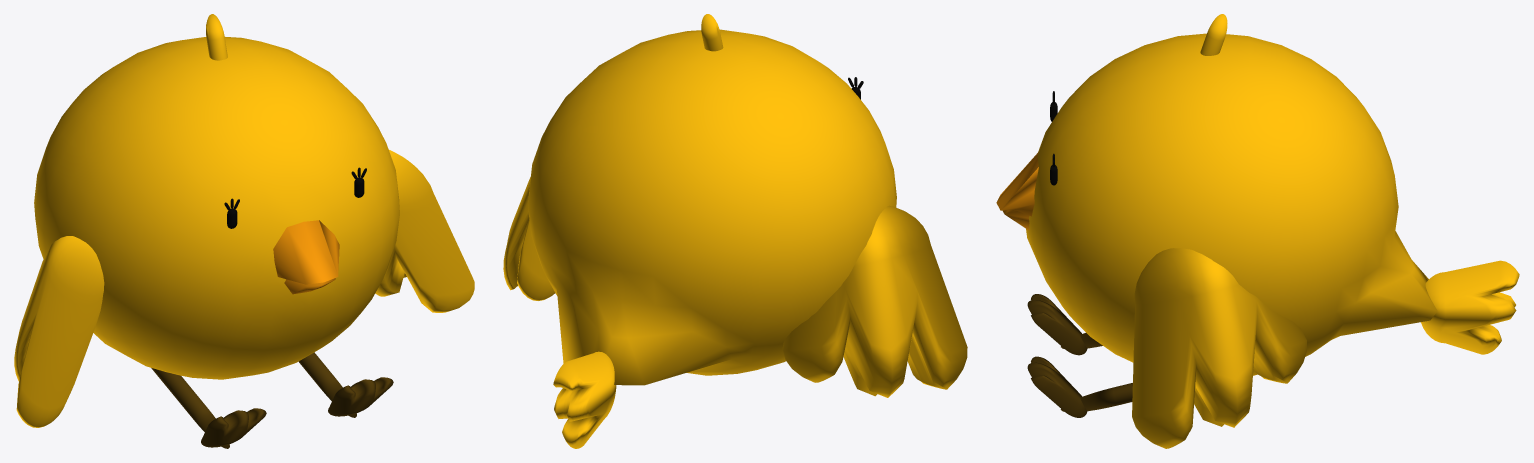
File: shisocchi.obj
The picture shows the model from 3 angles, left to right: view 1: azimuth 30°, elevation 25°; view 2: azimuth 150°, elevation 25°; view 3: azimuth 270°, elevation 25°; orthographic projection.
Visible parts, largest first — view 1: hontai, right-arm, left-arm, Kuchi, left-leg, right-leg, right-momo, left-momo, Chonmage; view 2: hontai, right-arm, Tail, left-arm, Chonmage; view 3: hontai, left-arm, Tail, left-leg, right-leg, Kuchi, left-momo, Chonmage.
Part boxes in pixels (x1,y1,x2,y2): hontai: [34, 37, 399, 379]; right-arm: [14, 236, 104, 427]; left-arm: [375, 150, 474, 312]; Kuchi: [273, 220, 339, 294]; left-leg: [328, 377, 393, 416]; right-leg: [201, 408, 266, 447]; right-momo: [151, 368, 229, 448]; left-momo: [298, 352, 356, 417]; Chonmage: [206, 14, 227, 60]; hontai: [528, 29, 896, 385]; right-arm: [782, 205, 967, 397]; Tail: [553, 351, 616, 448]; left-arm: [503, 177, 554, 300]; Chonmage: [701, 14, 723, 51]; hontai: [1026, 33, 1437, 375]; left-arm: [1132, 248, 1306, 448]; Tail: [1421, 260, 1519, 354]; left-leg: [1027, 356, 1087, 417]; right-leg: [1027, 294, 1087, 355]; Kuchi: [996, 152, 1038, 230]; left-momo: [1060, 383, 1132, 411]; Chonmage: [1200, 14, 1227, 55].
Size of the model in its own units: 1.67 by 1.31 by 1.69.
